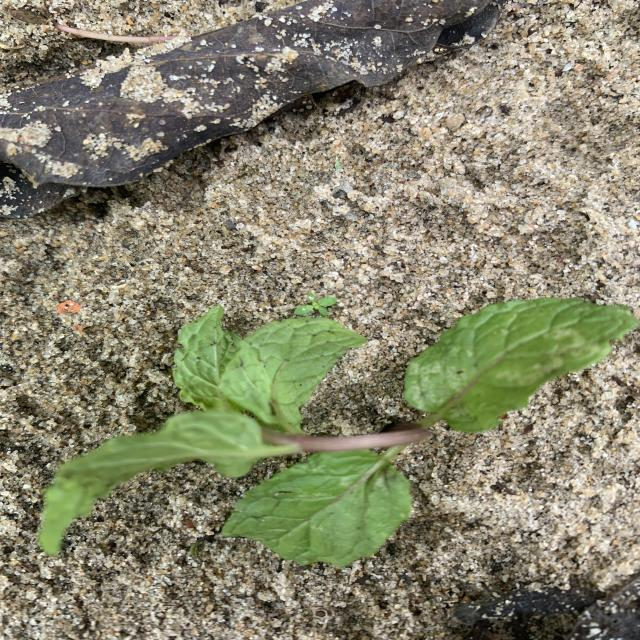crop: (39, 298, 637, 565)
weed: (293, 293, 337, 317)
